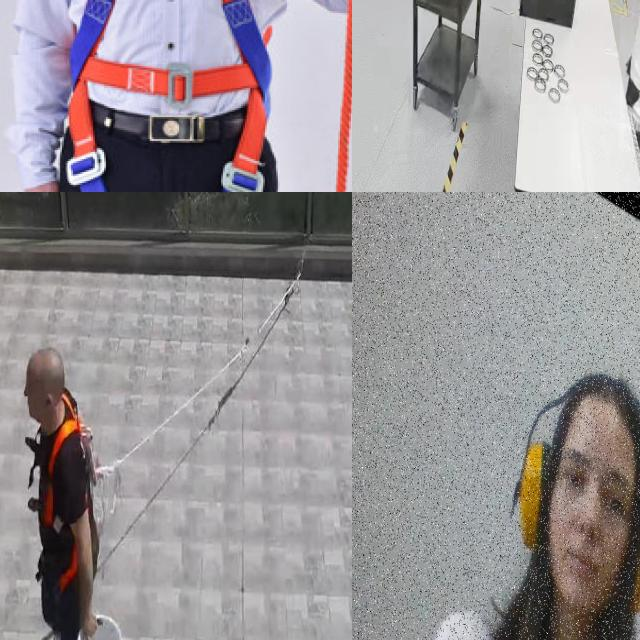Ear-protection: (500, 315, 640, 640)
Harness: (60, 0, 279, 192), (44, 392, 80, 524)
hand_glove: (629, 89, 640, 135)
